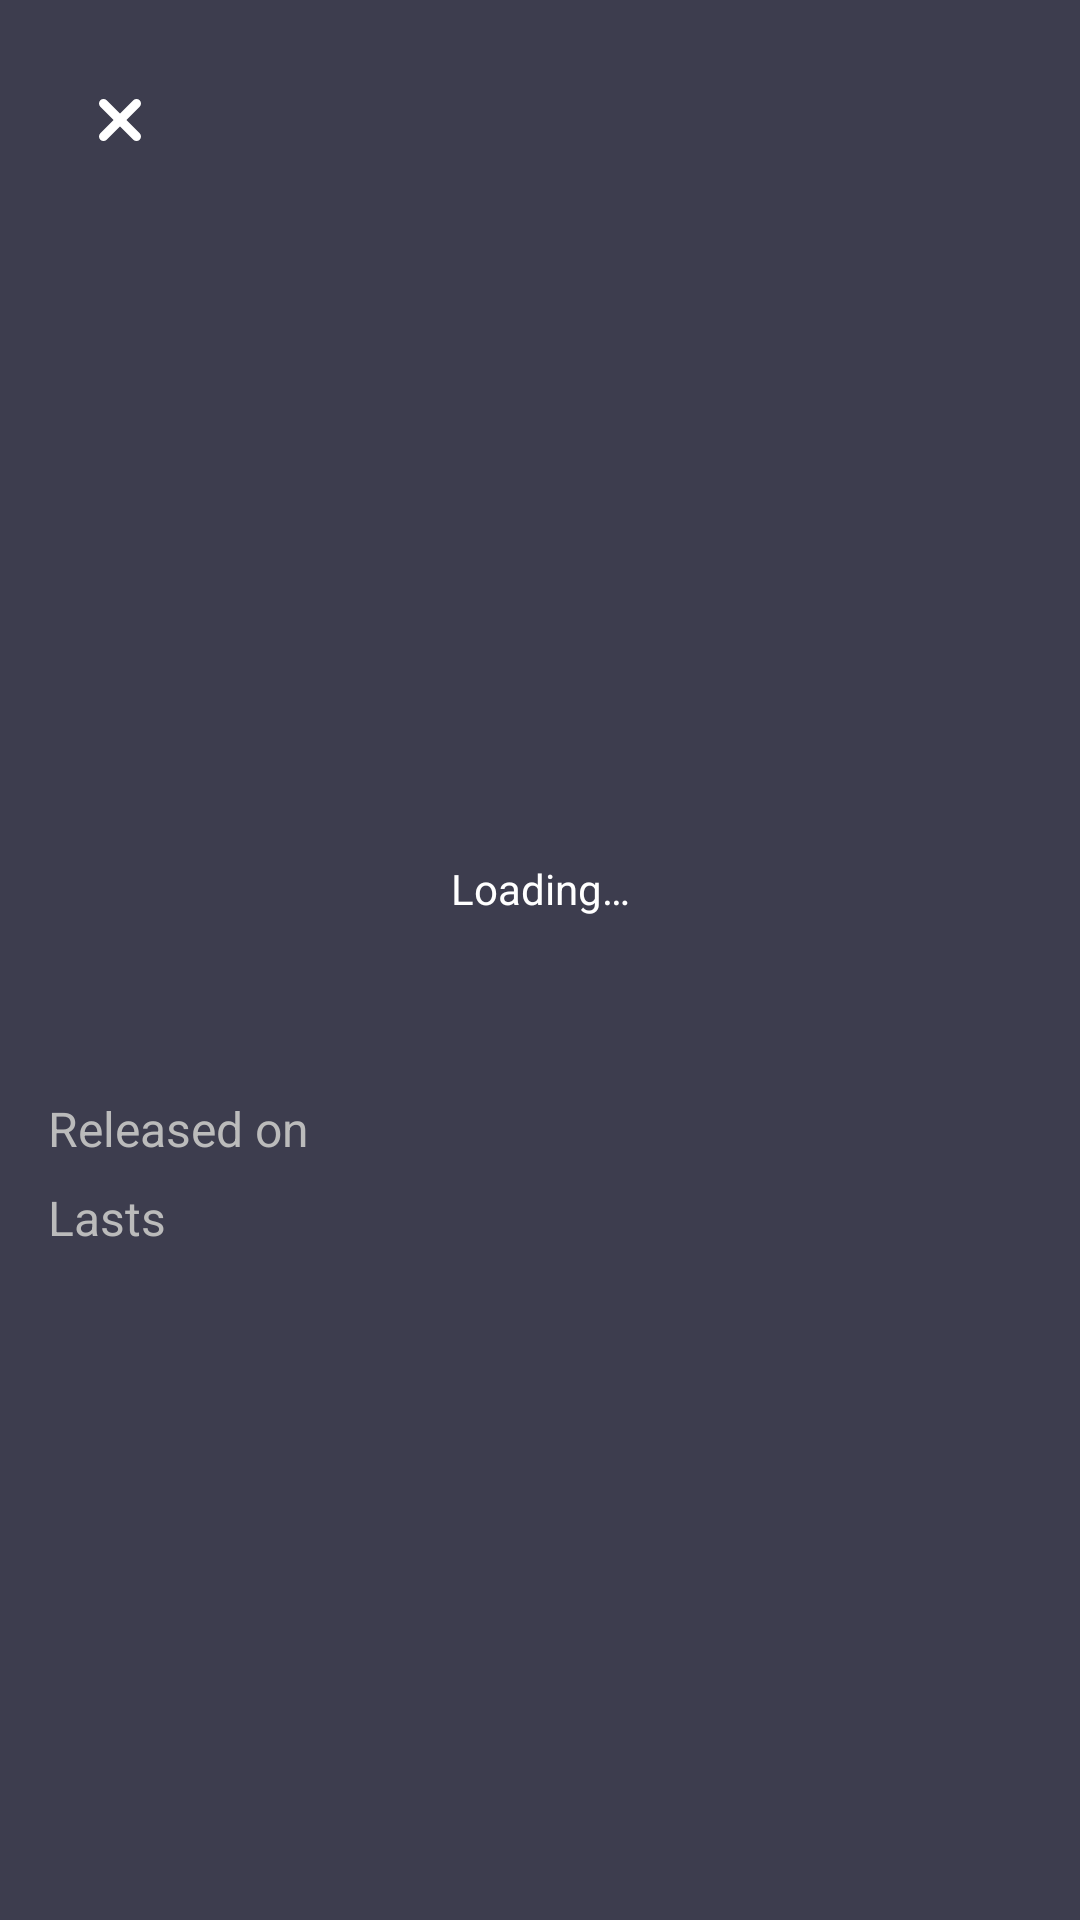

Icons on this 1080x1920 Android screen, each with the point to tap as (x,y):
close movie details: (120,120)
